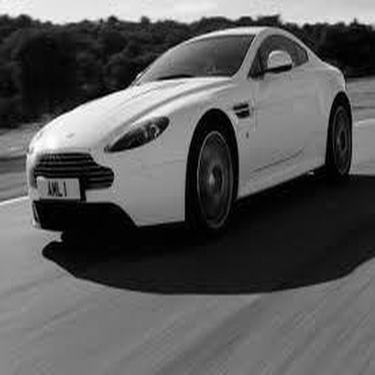car: (8, 19, 357, 241)
